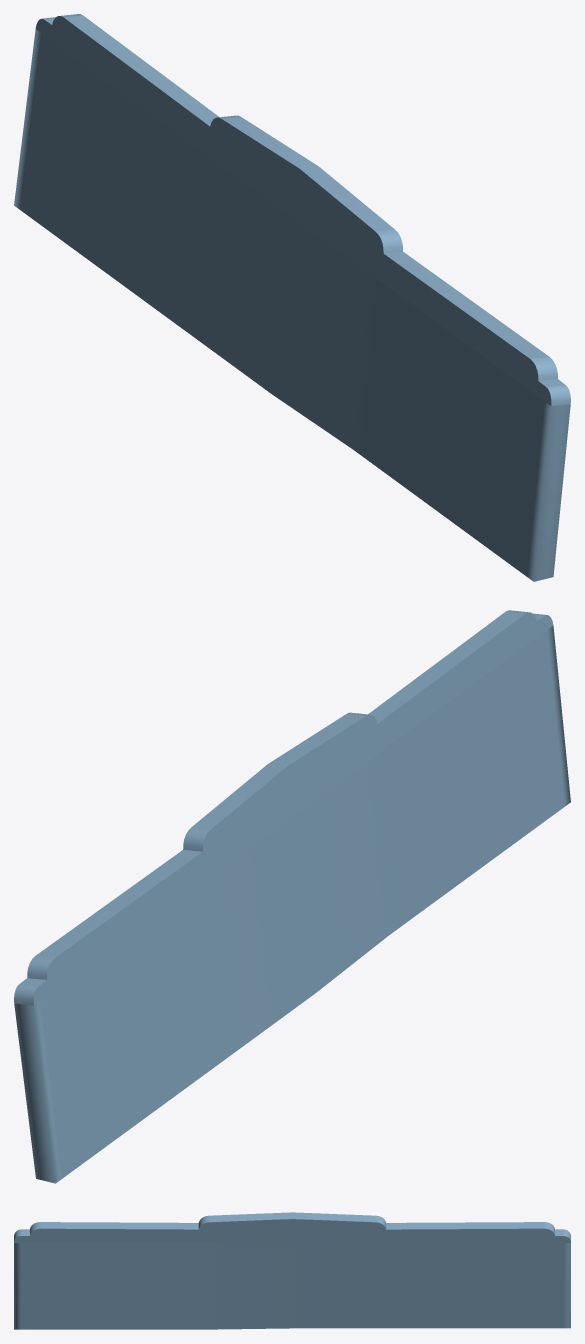
The model's file is Sofa_Back_Large.fbx.
The picture shows the model from 3 angles, top to bottom: view 1: azimuth 30°, elevation 25°; view 2: azimuth 150°, elevation 25°; view 3: azimuth 270°, elevation 25°; orthographic projection. The views are drawn at different scales.
Visible parts, largest first — view 1: Sofa_Back_Large; view 2: Sofa_Back_Large; view 3: Sofa_Back_Large.
Boxes of the visible parts, x1,y1,x2,y2 form: Sofa_Back_Large: [14, 14, 570, 581]; Sofa_Back_Large: [14, 610, 570, 1183]; Sofa_Back_Large: [14, 1212, 570, 1329].
Bounding box in the file's own units: 20.66 × 91.39 × 390.
